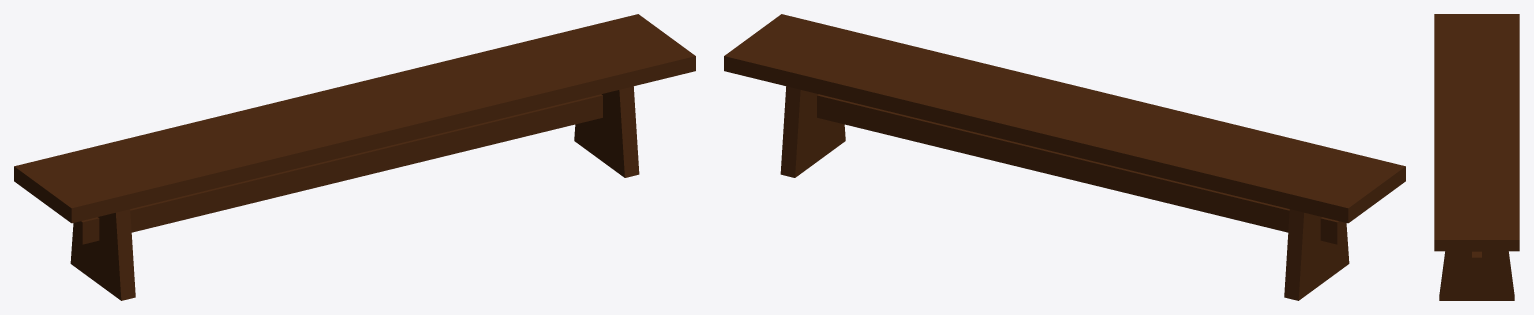
Rendered from SM_Bench.fbx.
The picture shows the model from 3 angles, left to right: view 1: azimuth 30°, elevation 25°; view 2: azimuth 150°, elevation 25°; view 3: azimuth 270°, elevation 25°; orthographic projection. The views are drawn at different scales.
Visible parts, largest first — view 1: SM_Bench; view 2: SM_Bench; view 3: SM_Bench.
Part boxes in pixels (bbox=[...]): SM_Bench: bbox=[14, 14, 695, 300]; SM_Bench: bbox=[724, 14, 1405, 300]; SM_Bench: bbox=[1434, 14, 1519, 300].
Bounding box in the file's own units: 3.14 × 0.5186 × 0.5.
